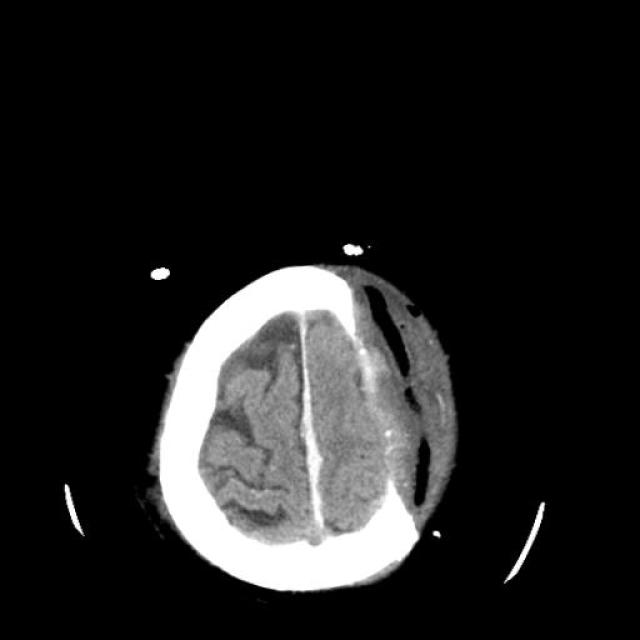Subdural: (278, 299, 346, 549)
